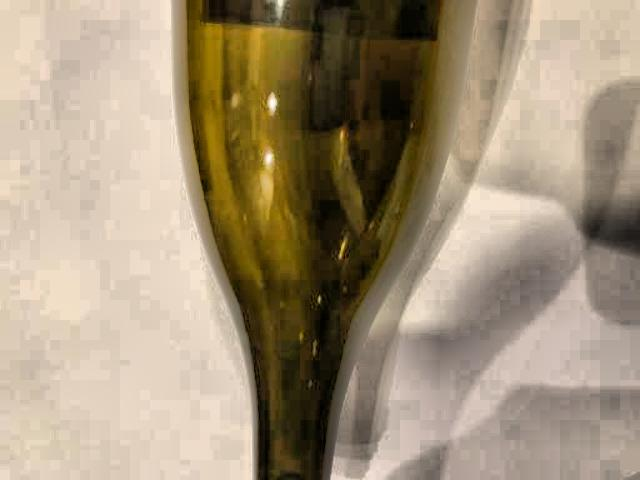Bottles: (144, 0, 470, 480)
